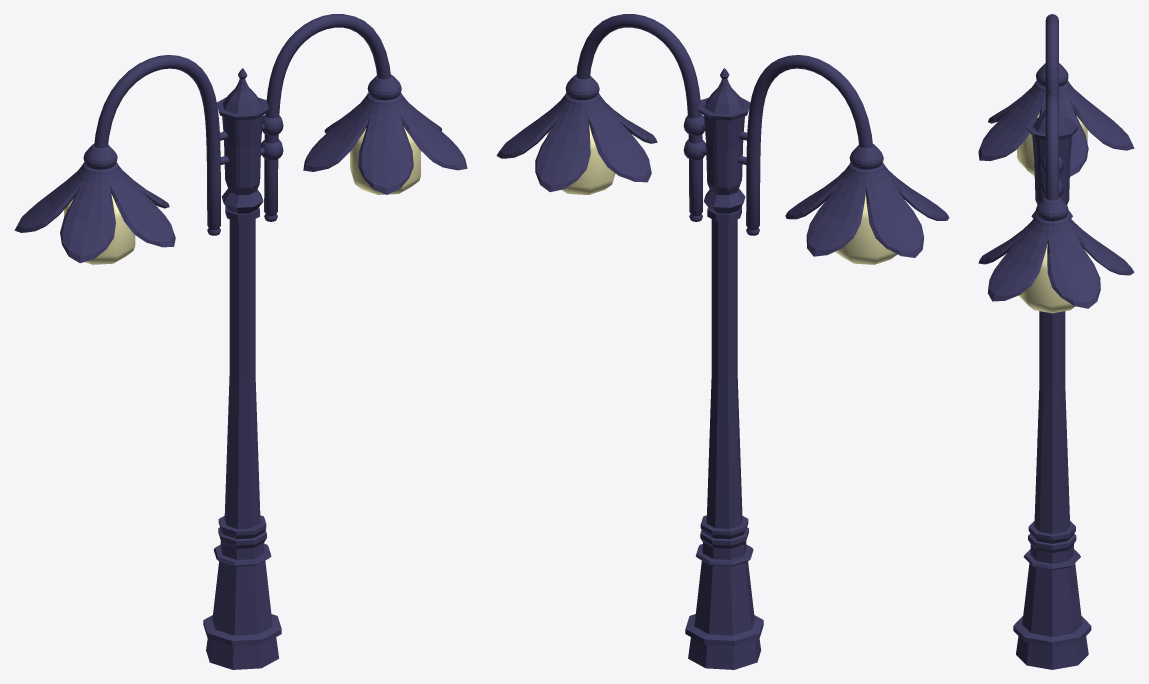
Rendered from Lamp.glb.
The picture shows the model from 3 angles, left to right: view 1: azimuth 30°, elevation 25°; view 2: azimuth 150°, elevation 25°; view 3: azimuth 270°, elevation 25°; orthographic projection. The views are drawn at different scales.
Parts seen in each view (by area): view 1: Cylinder, Plane.011, NurbsPath.003, bulb; view 2: Cylinder, Plane.011, NurbsPath.003, bulb; view 3: Cylinder, Plane.011, NurbsPath.003, bulb.
Boxes of the visible parts, <box> form: Cylinder: <box>203,68,281,669</box>; Plane.011: <box>14,74,467,263</box>; NurbsPath.003: <box>94,14,390,235</box>; bulb: <box>64,127,420,264</box>; Cylinder: <box>685,68,763,669</box>; Plane.011: <box>496,74,949,257</box>; NurbsPath.003: <box>576,14,872,235</box>; bulb: <box>547,124,897,264</box>; Cylinder: <box>1013,90,1091,669</box>; Plane.011: <box>978,63,1134,308</box>; NurbsPath.003: <box>1045,14,1058,200</box>; bulb: <box>1017,112,1087,313</box>.
Size of the model in its own units: 0.9714 by 1.37 by 0.3253.
